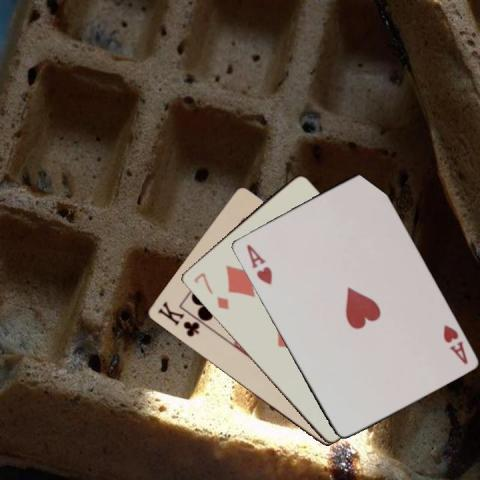7d: (190, 270, 230, 312)
Ah: (243, 240, 273, 286), (439, 322, 469, 365)
Kc: (154, 299, 201, 338)
